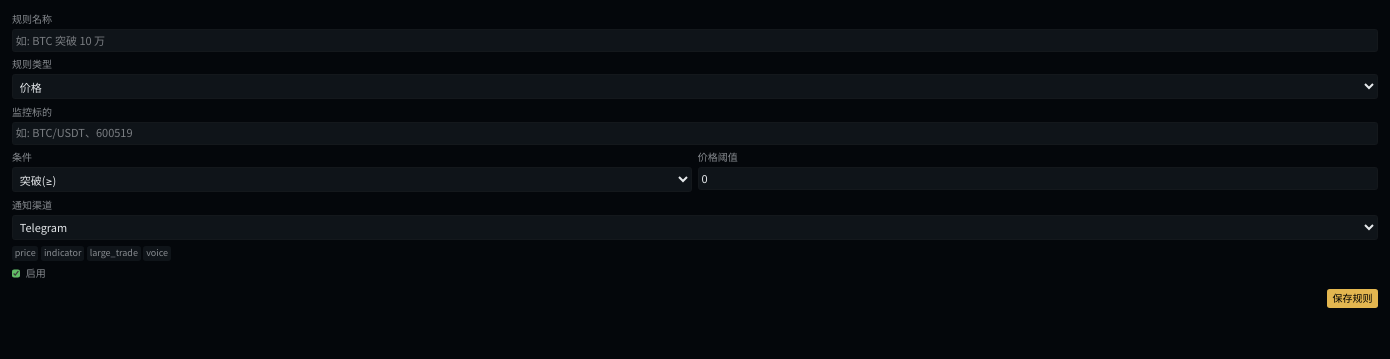
Test: AlertRuleForm(预警规则表单) › 价格阈值非数字 → 阈值校验错误
The width and height of the screenshot is (1390, 359).
Type "测试" into the field labelled "规则名称" at {"x": 695, "y": 40}, box [12,29,1378,52]
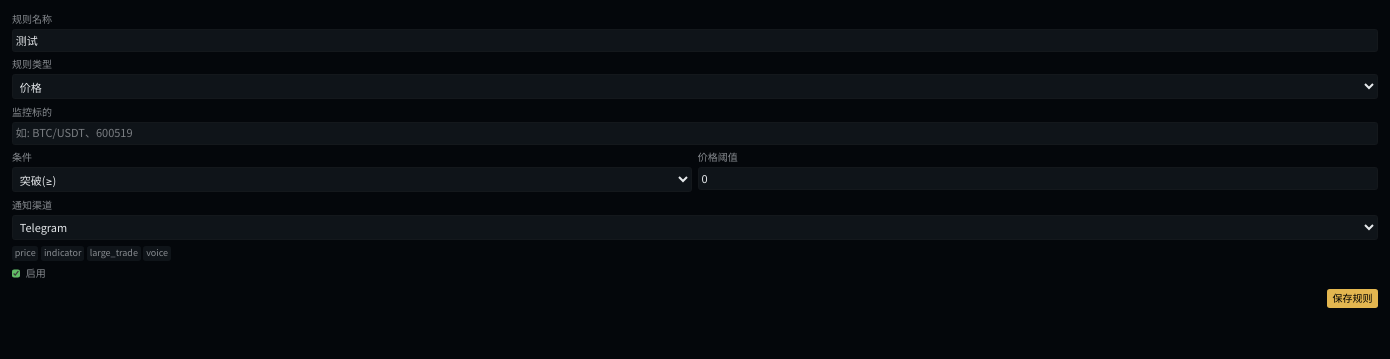
Replace the text in the number field labelled "价格阈值" with "abc" at {"x": 1038, "y": 178}, box [698,167,1378,190]
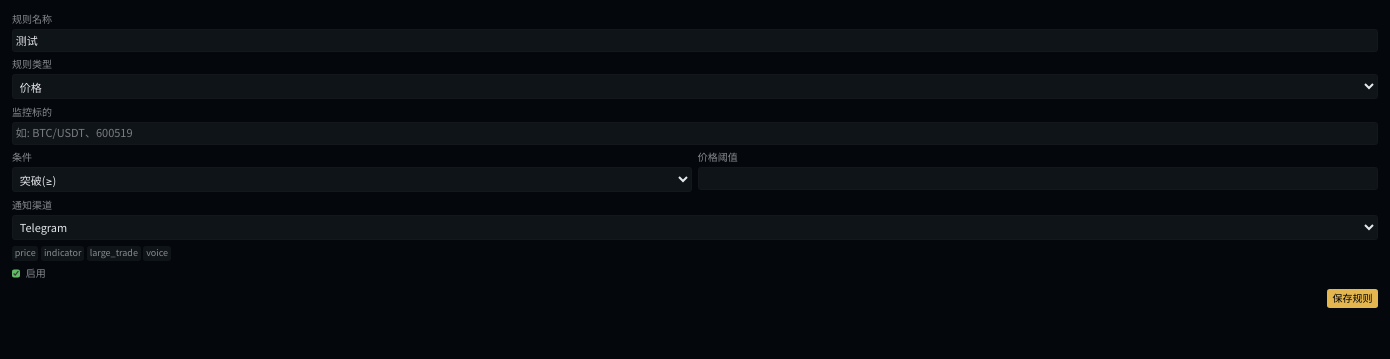
Click the button "保存规则" at {"x": 1352, "y": 298}, box [1327,289,1378,308]
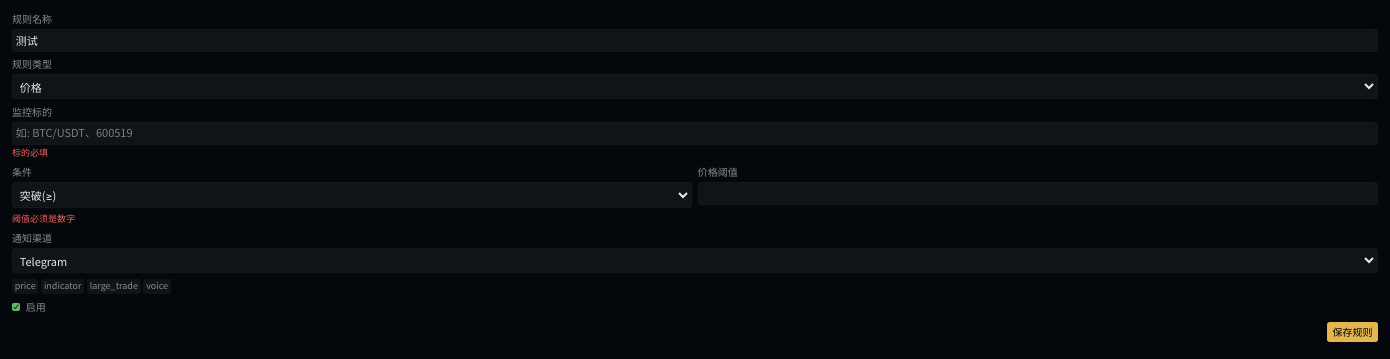
Expected: the text "阈值必须是数字" is shown, [12,212,75,225]
